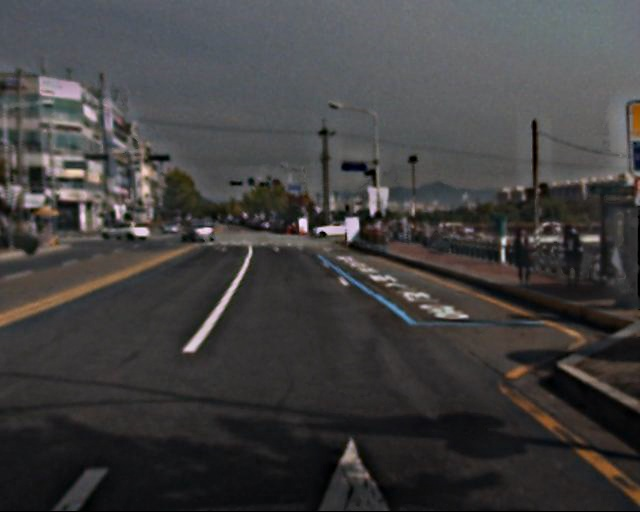person: (554, 221, 582, 290), (512, 226, 538, 289)
